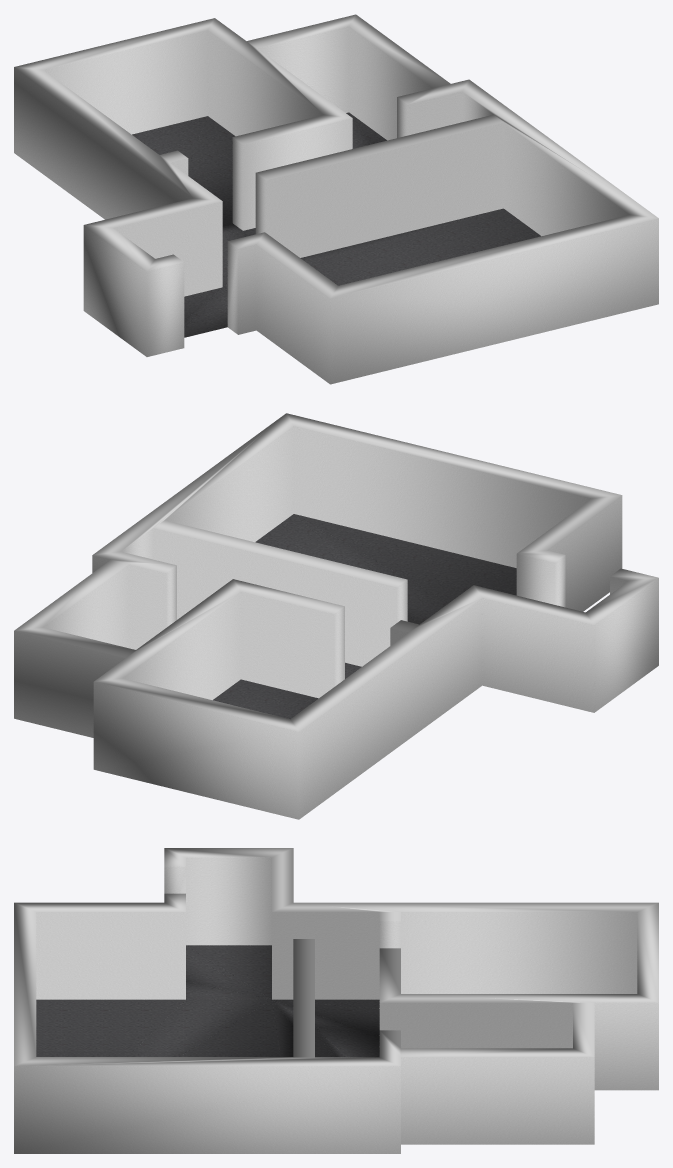
File: House_Demo.fbx
3 views of the same model, one above another, from view 1: azimuth 30°, elevation 25°; view 2: azimuth 150°, elevation 25°; view 3: azimuth 270°, elevation 25° (orthographic). The views are drawn at different scales.
Visible parts, largest first — view 1: House_Demo; view 2: House_Demo; view 3: House_Demo.
Part boxes in pixels (x1,y1,x2,y2): House_Demo: (14, 14, 658, 384); House_Demo: (14, 413, 658, 819); House_Demo: (14, 848, 658, 1153).
Bounding box in the file's own units: 18 × 3.38 × 22.5.
